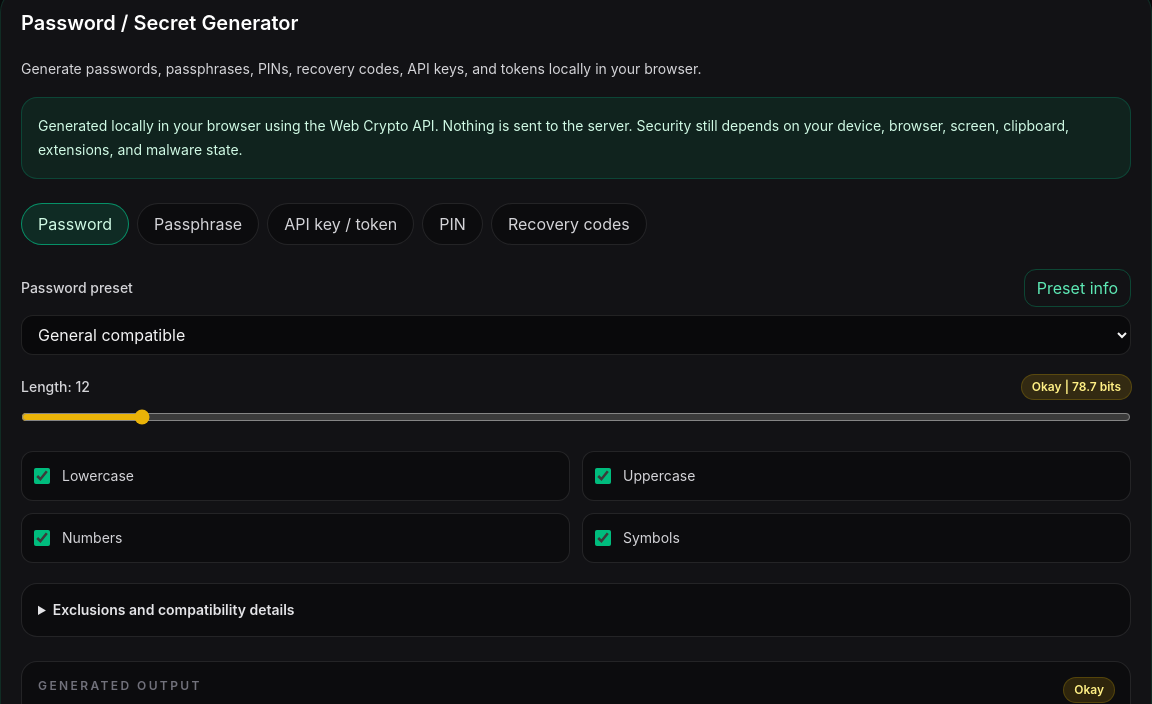
Scenario: secret clipboard integration › handles failure and retry for recovery=true without exposing values in assertions
Click the button "Recovery codes". click: x=569, y=224
box: [491,203,647,245]
(page scrolled)
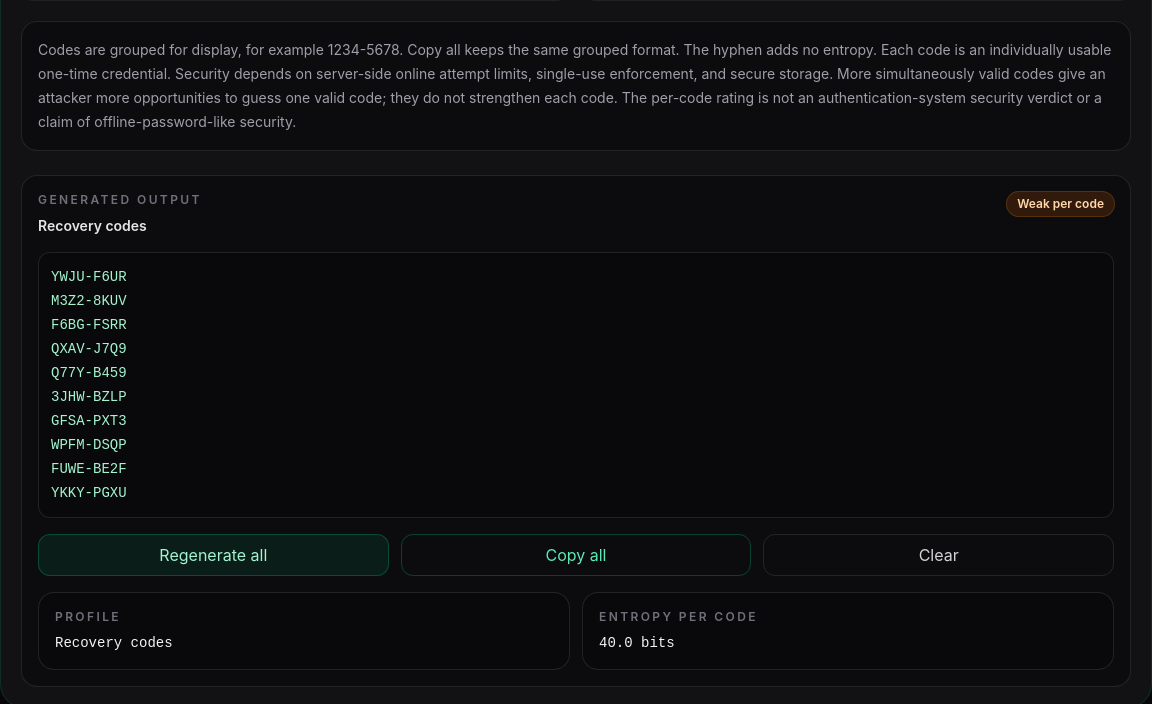
Click the button "Copy all". click: x=576, y=555
box: [401,534,751,576]
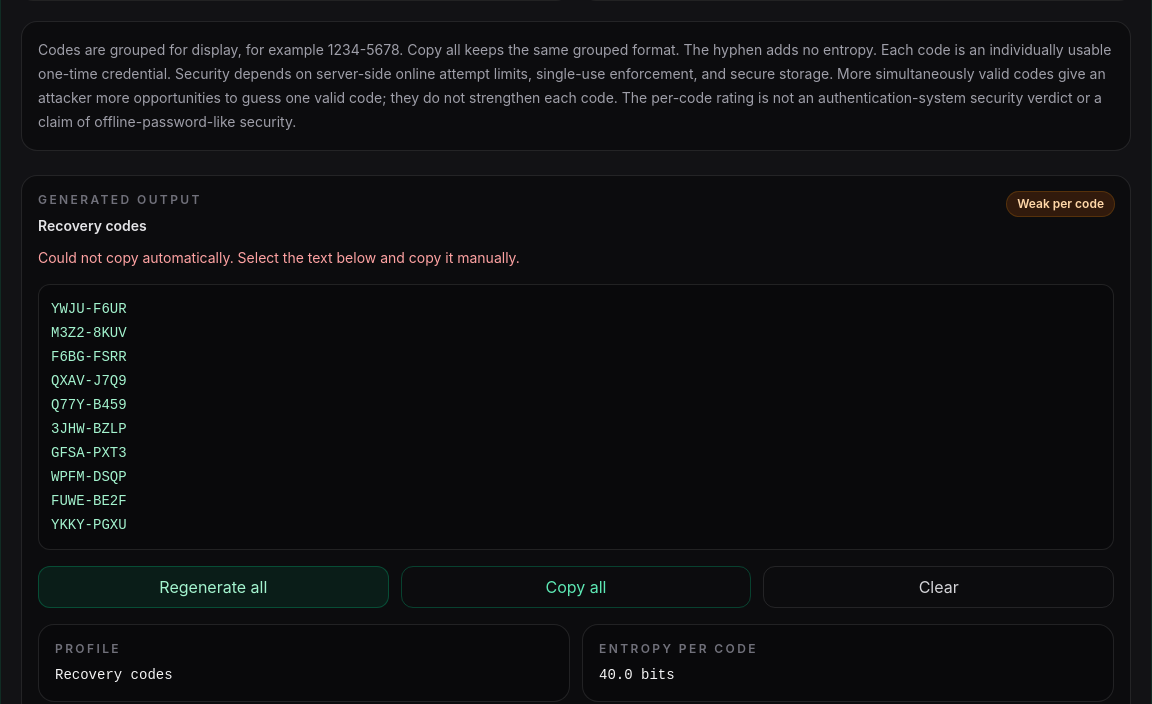
Expected: the button "Copied all" is not shown
Result: the message reads "Could not copy automatically. Select the text below and copy it manually." at [38,249,520,266]
Click the button "Copy all". click: x=576, y=587
box: [401,566,751,608]
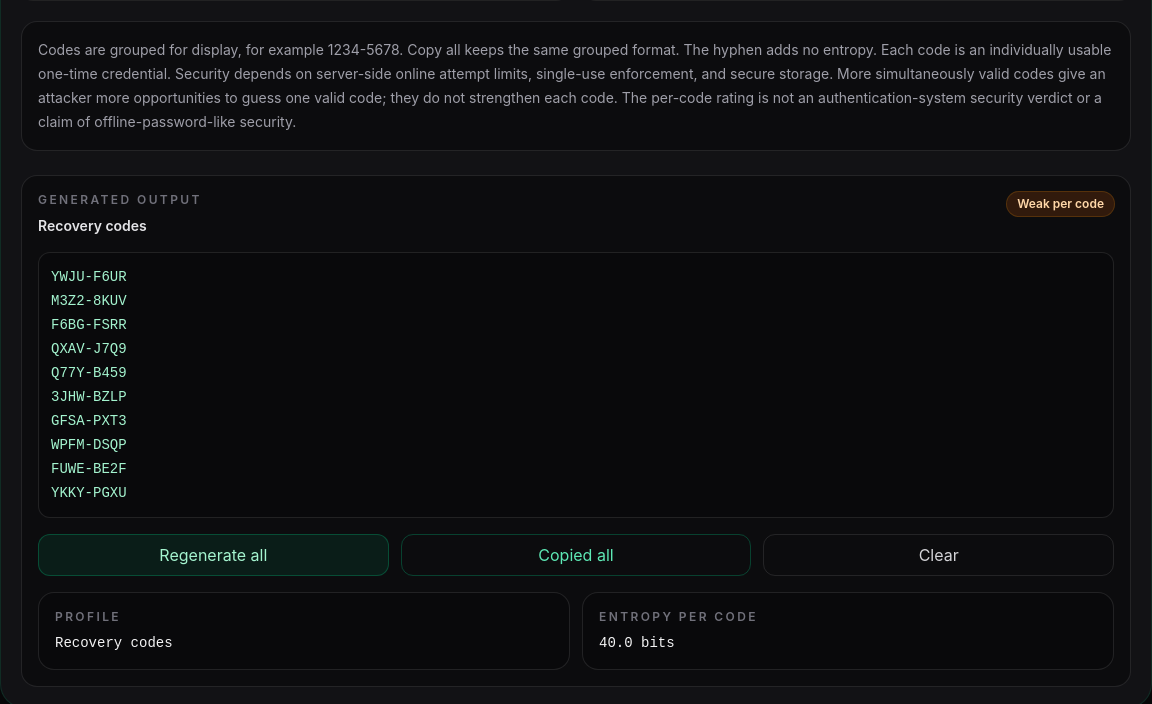
Result: the button "Copied all" is shown at [401,534,751,576]
Result: the text "Could not copy automatically. Select the text below and copy it manually." is gone
Click the button "Regenerate all". click: x=213, y=555
box: [38,534,389,576]
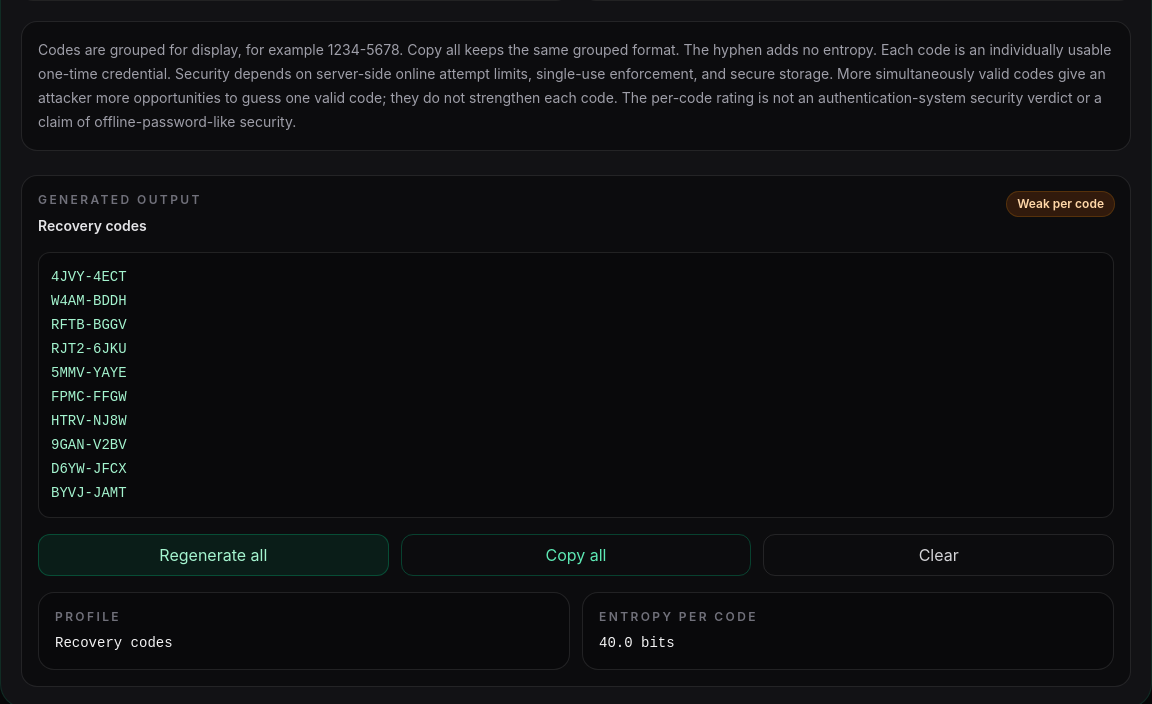
Result: the button "Copy all" is shown at [401,534,751,576]
Click the button "Clear". click: x=939, y=555
box: [763,534,1114,576]
(page scrolled)
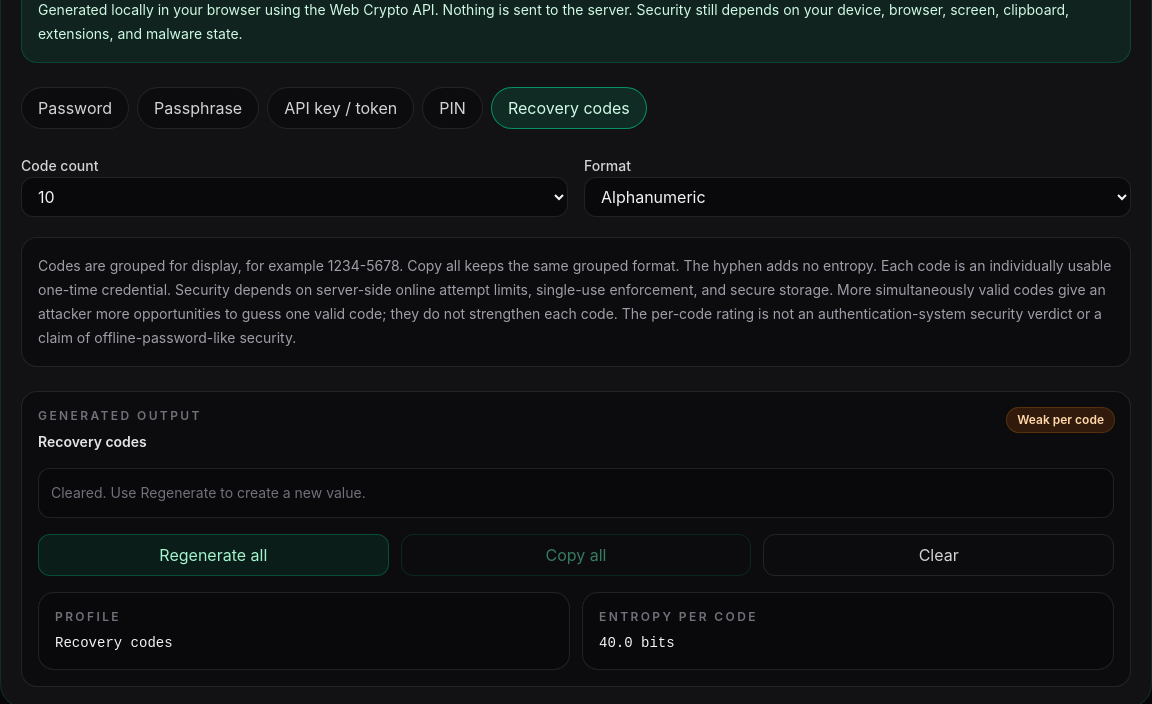
Result: the button "Copy all" is disabled at [401,534,751,576]
